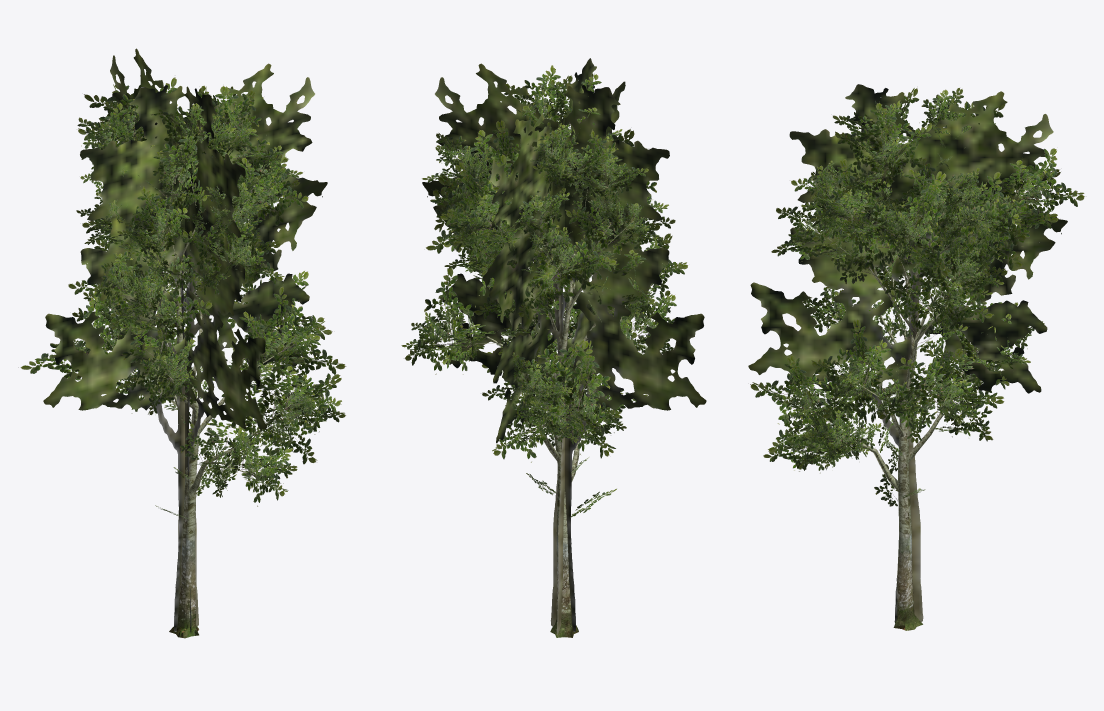
Rendered from Tree-Beech1A.fbx.
The picture shows the model from 3 angles, left to right: view 1: azimuth 30°, elevation 25°; view 2: azimuth 150°, elevation 25°; view 3: azimuth 270°, elevation 25°; orthographic projection. The views are drawn at different scales.
Parts seen in each view (by area): view 1: Tree-Beech1A_LOD0, Billboard-BeechA; view 2: Tree-Beech1A_LOD0, Billboard-BeechA; view 3: Tree-Beech1A_LOD0, Billboard-BeechA.
Part boxes in pixels (bbox=[...]): Tree-Beech1A_LOD0: bbox=[18, 77, 346, 638]; Billboard-BeechA: bbox=[43, 48, 327, 633]; Tree-Beech1A_LOD0: bbox=[401, 65, 687, 637]; Billboard-BeechA: bbox=[422, 58, 706, 634]; Tree-Beech1A_LOD0: bbox=[750, 88, 1084, 630]; Billboard-BeechA: bbox=[748, 84, 1067, 621].
Size of what is drawn, in the model's own units: 1305 by 2354 by 1374.
